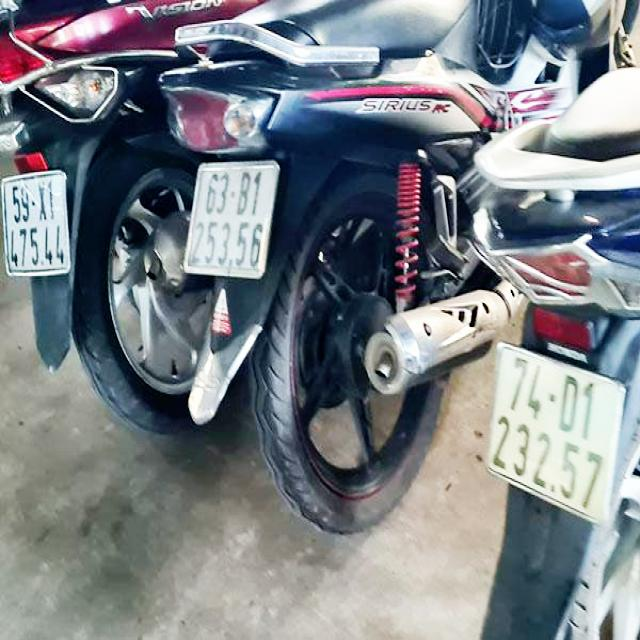license_plate: (486, 345, 627, 523), (188, 164, 279, 272), (5, 174, 70, 276)
